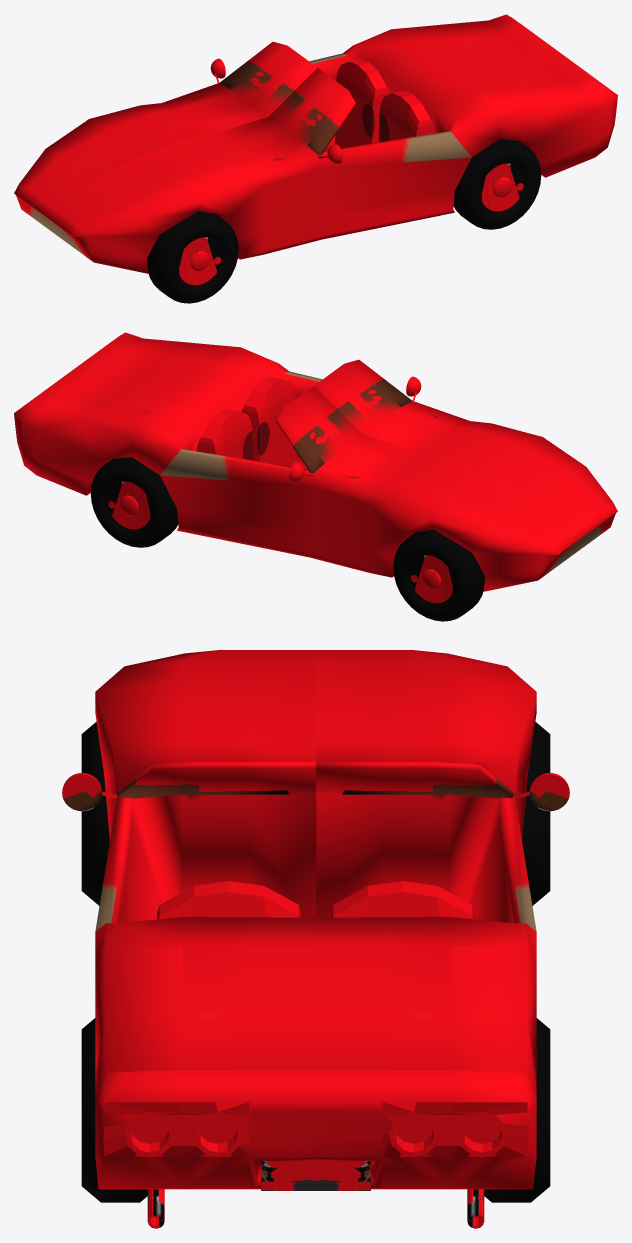
Rendered from PinkyMobile.fbx.
3 views of the same model, one above another, from view 1: azimuth 30°, elevation 25°; view 2: azimuth 150°, elevation 25°; view 3: azimuth 270°, elevation 25° (orthographic). The views are drawn at different scales.
Parts seen in each view (by area): view 1: Cube; view 2: Cube; view 3: Cube.
Part boxes in pixels (x1=…): Cube: x1=14, y1=14, x2=617, y2=303; Cube: x1=14, y1=332, x2=617, y2=621; Cube: x1=62, y1=650, x2=569, y2=1228.
Size of the model in its own units: 2125 by 596 by 895.
Materials: 1 (1 with a texture image).
